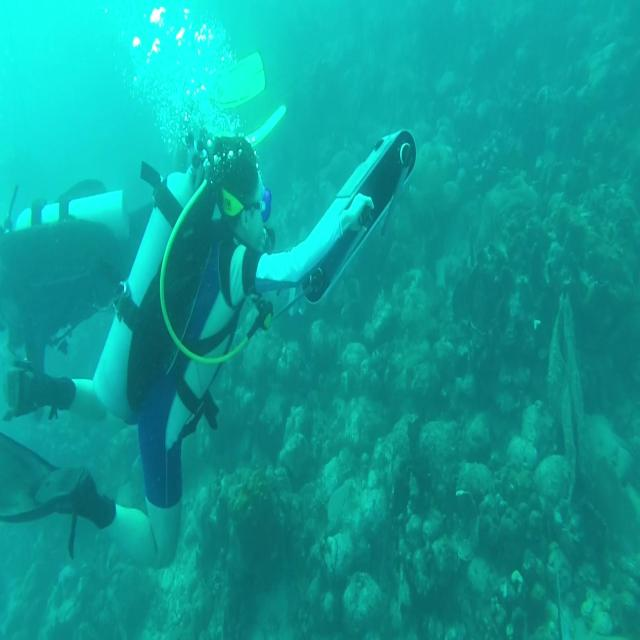human: (1, 126, 382, 569), (0, 129, 214, 424)
